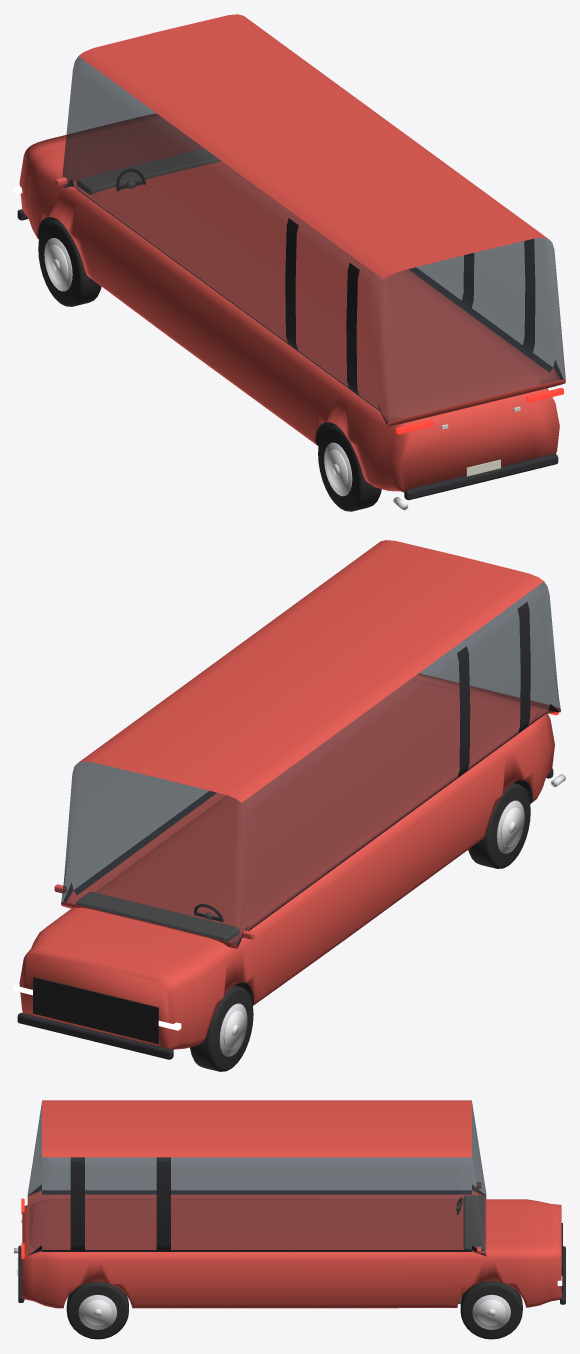
The model's file is t_lorry.glb.
3 renders of one model, top to bottom at view 1: azimuth 30°, elevation 25°; view 2: azimuth 150°, elevation 25°; view 3: azimuth 270°, elevation 25°, orthographic. The views are drawn at different scales.
Parts seen in each view (by area): view 1: Body.012, Glass.012, Wheel_FL.012, Wheel_RL.012, Interior.012; view 2: Body.012, Glass.012, Wheel_FL.012, Wheel_RL.012, Interior.012; view 3: Body.012, Glass.012, Wheel_FR.012, Wheel_RR.012, Interior.012.
Part boxes in pixels (box(x1,y1,x2,y2)): Body.012: box(17, 14, 565, 510); Glass.012: box(61, 56, 565, 423); Wheel_FL.012: box(38, 219, 101, 306); Wheel_RL.012: box(318, 424, 381, 511); Interior.012: box(77, 148, 220, 194); Body.012: box(17, 540, 565, 1059); Glass.012: box(61, 581, 560, 946); Wheel_FL.012: box(190, 985, 253, 1071); Wheel_RL.012: box(468, 782, 530, 868); Interior.012: box(76, 891, 239, 941); Body.012: box(14, 1100, 565, 1308); Glass.012: box(27, 1102, 486, 1255); Wheel_FR.012: box(460, 1281, 522, 1339); Wheel_RR.012: box(66, 1281, 128, 1339); Interior.012: box(458, 1195, 484, 1303).
Bounding box in the file's own units: 2.71 × 3.4 × 9.21.
